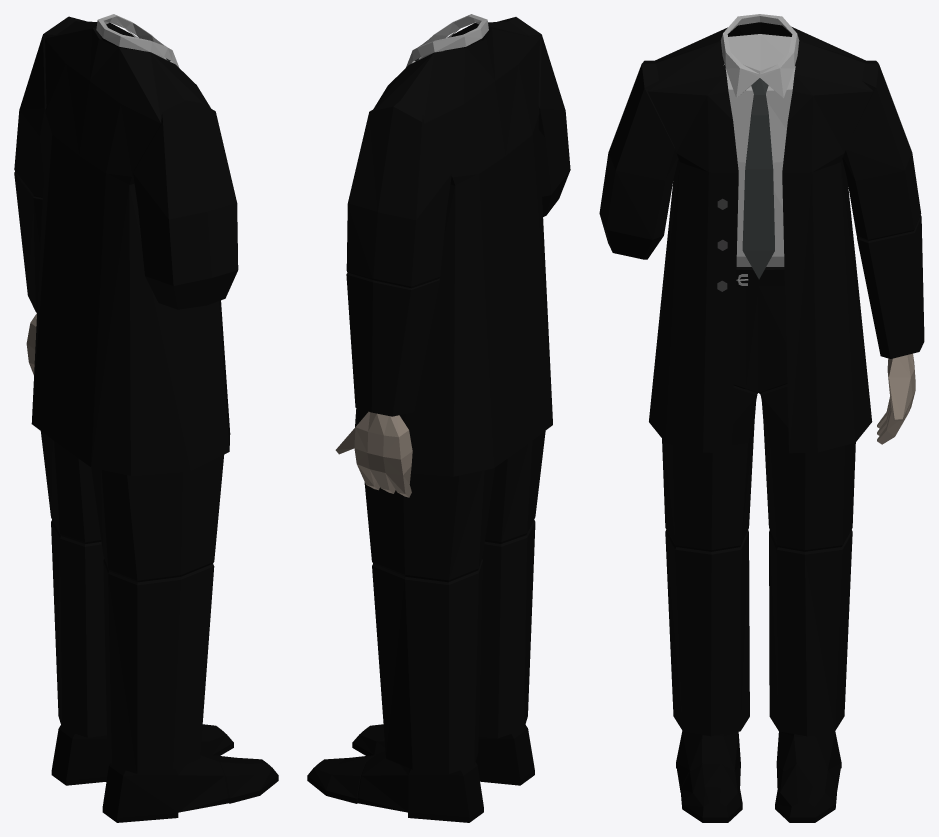
The picture shows the model from 3 angles, left to right: view 1: azimuth 30°, elevation 25°; view 2: azimuth 150°, elevation 25°; view 3: azimuth 270°, elevation 25°; orthographic projection. The views are drawn at different scales.
Visible parts, largest first — view 1: UpperBody, RKnee, RUpperArm, RThigh, LKnee, RFoot, LThigh, LUpperArm, LFoot, LForeArm, RToe, vtshirt (+1 smaller); view 2: UpperBody, LKnee, LUpperArm, LThigh, LForeArm, RKnee, LFoot, RThigh, LHand, RUpperArm, RFoot, LToe (+2 smaller); view 3: UpperBody, RKnee, LKnee, LThigh, RUpperArm, RThigh, LUpperArm, vtshirt, LForeArm, Pelvis, vttie, RToe (+4 smaller).
Part boxes in pixels (box(x1,y1,x2,y2)): UpperBody: box(31, 21, 230, 475); RKnee: box(103, 559, 214, 773); RUpperArm: box(133, 100, 238, 309); RThigh: box(91, 455, 223, 582); LKnee: box(51, 520, 106, 737); RFoot: box(102, 751, 228, 822); LThigh: box(40, 431, 101, 543); LUpperArm: box(14, 16, 102, 197); LFoot: box(51, 725, 110, 785); LForeArm: box(14, 172, 42, 312); RToe: box(211, 755, 278, 803); vtshirt: box(96, 14, 179, 67); UpperBody: box(355, 21, 552, 476); LKnee: box(372, 559, 482, 773); LUpperArm: box(346, 101, 451, 288); LThigh: box(364, 468, 494, 582); LForeArm: box(346, 272, 439, 416); RKnee: box(478, 520, 535, 738); LFoot: box(357, 751, 483, 822); RThigh: box(485, 431, 545, 543); LHand: box(335, 411, 412, 497); RUpperArm: box(482, 17, 570, 216); RFoot: box(475, 724, 534, 785); LToe: box(307, 755, 375, 803); UpperBody: box(648, 22, 873, 453); RKnee: box(665, 530, 749, 736); LKnee: box(769, 530, 852, 736); LThigh: box(760, 384, 855, 551); RUpperArm: box(599, 60, 678, 259); RThigh: box(662, 385, 757, 551); LUpperArm: box(842, 60, 921, 241); vtshirt: box(720, 14, 799, 266); LForeArm: box(857, 215, 924, 358); Pelvis: box(733, 267, 787, 394); vttie: box(742, 78, 774, 279); RToe: box(681, 763, 742, 822).
Bounding box in the file's own units: 1.51 × 2.35 × 5.91.
